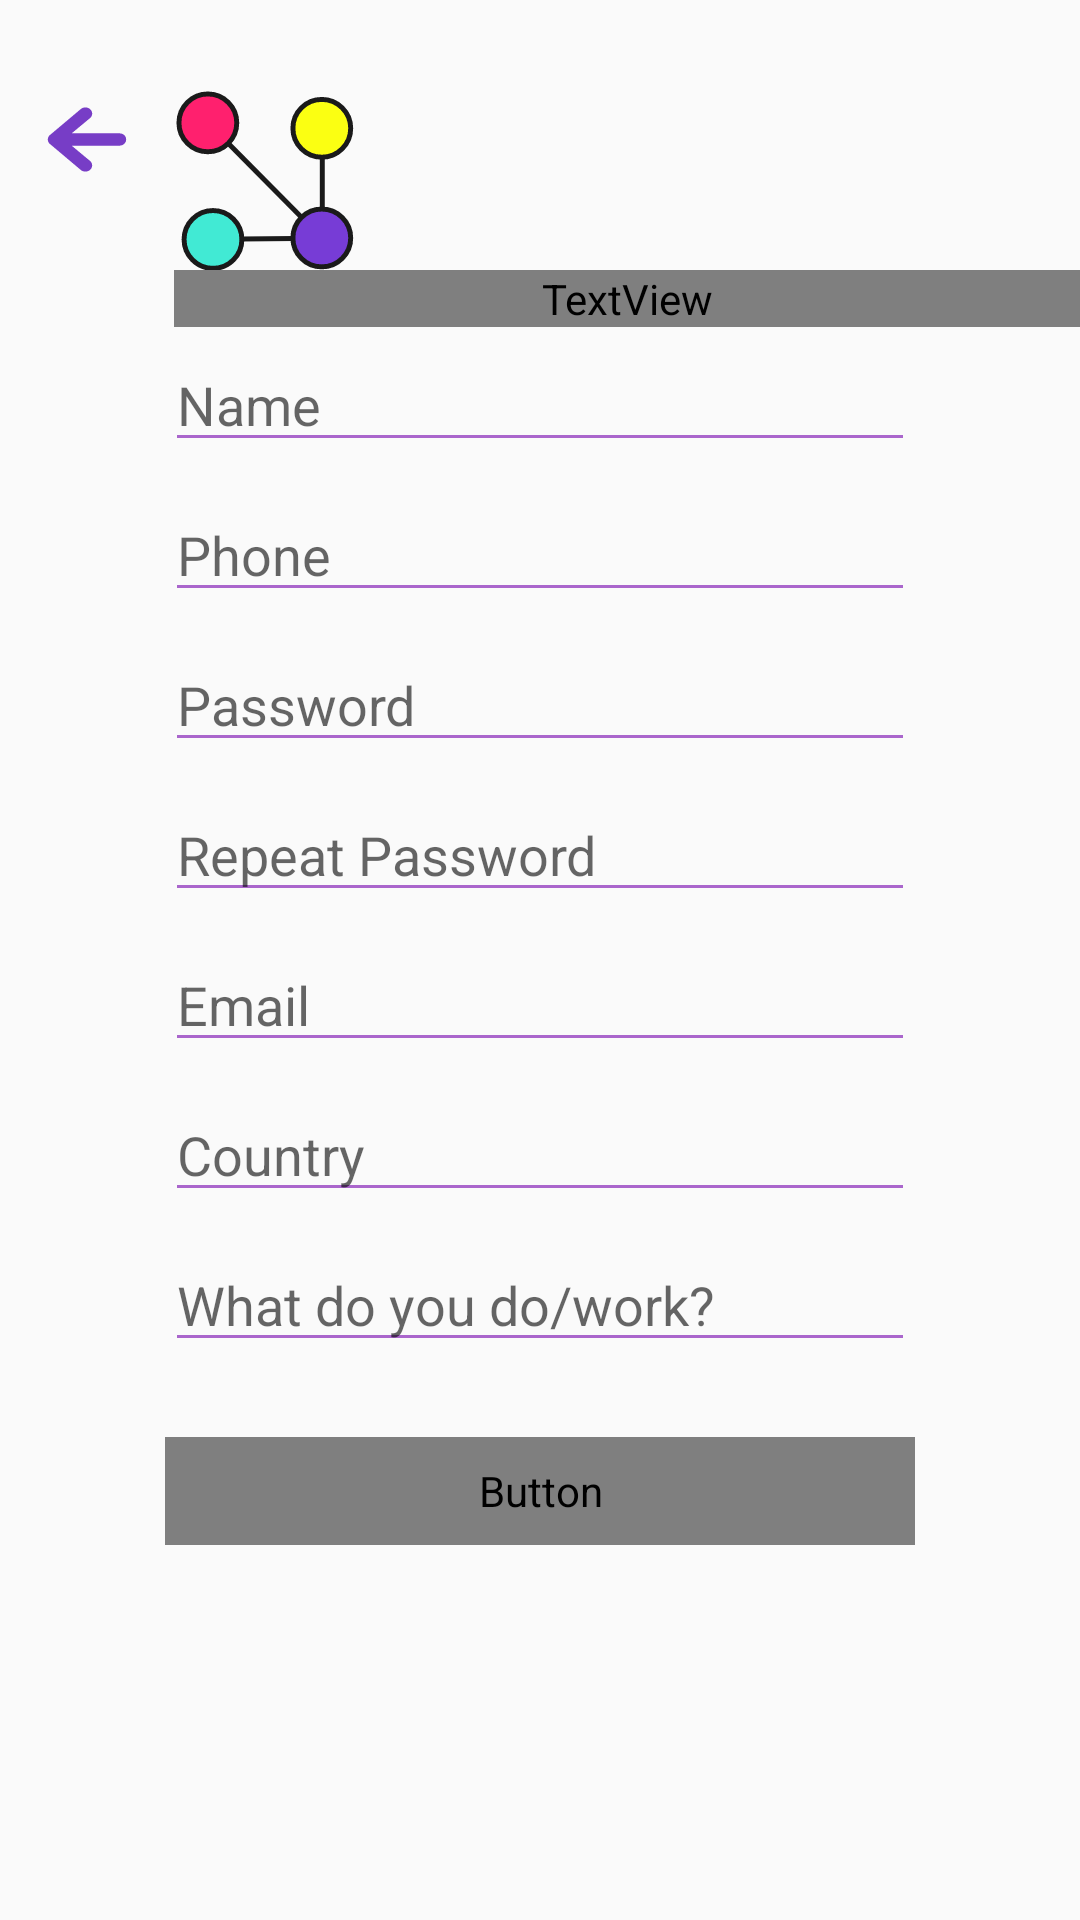

Where to tap for icons on this 1080w x 1920h app screen, as (x=x, y=y):
arrow: (x=87, y=139)
